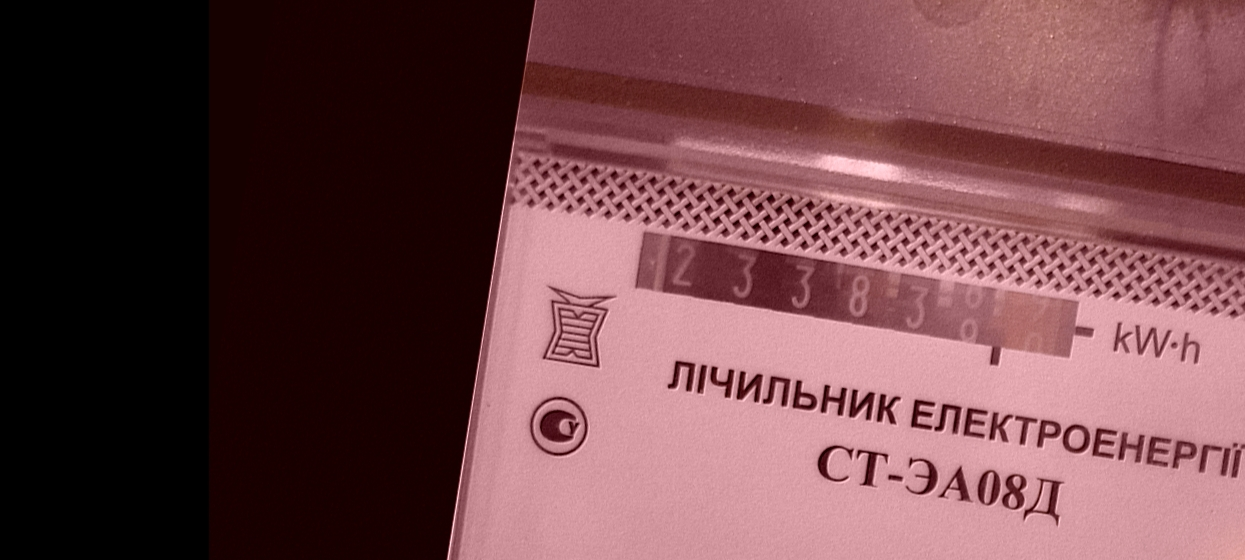0: (1019, 328, 1048, 356)
2: (666, 239, 701, 291)
3: (726, 250, 761, 303), (786, 261, 818, 314), (900, 281, 932, 333)
8: (843, 271, 875, 320), (959, 283, 990, 314)
9: (953, 314, 984, 346), (1024, 293, 1053, 325)
screen: (618, 218, 1098, 383)
